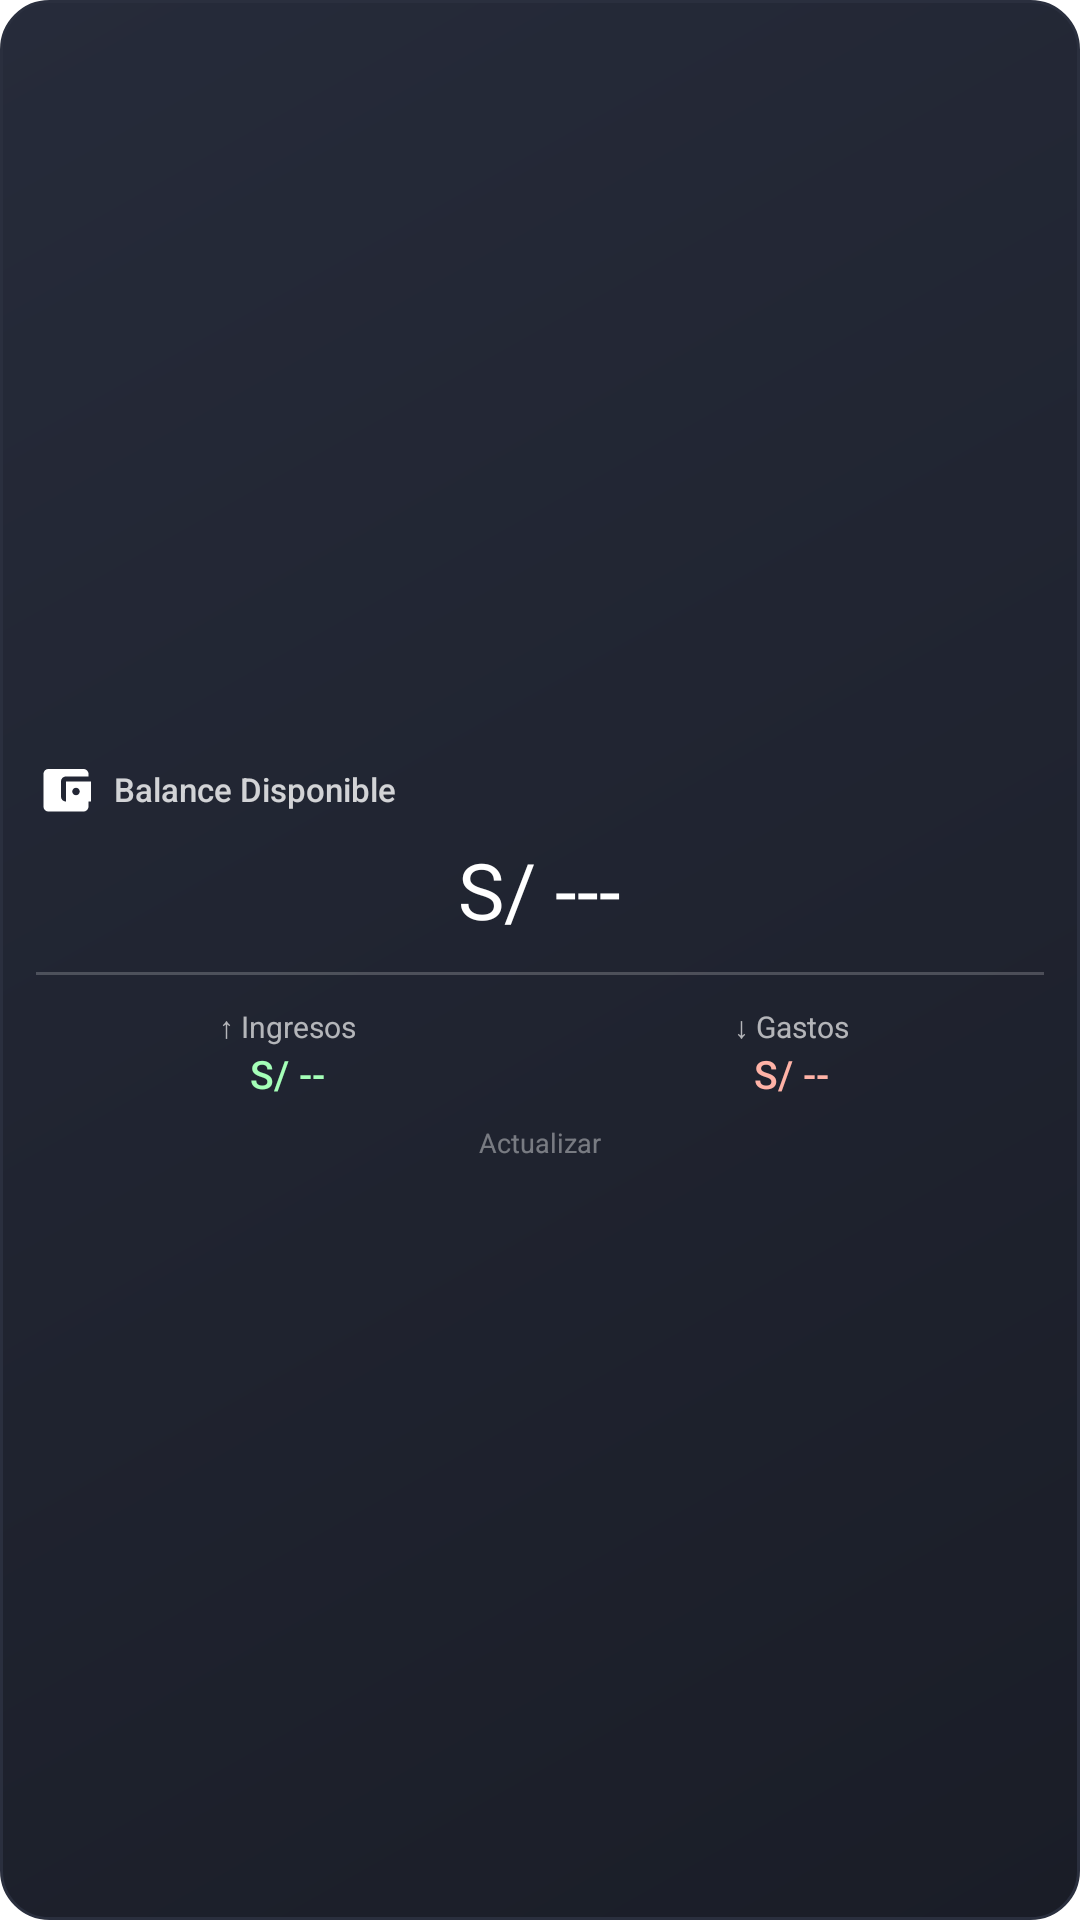

Where to tap for icons on this 1080 x 1920 app screen, as [x,y]:
wallet: [67,790]
